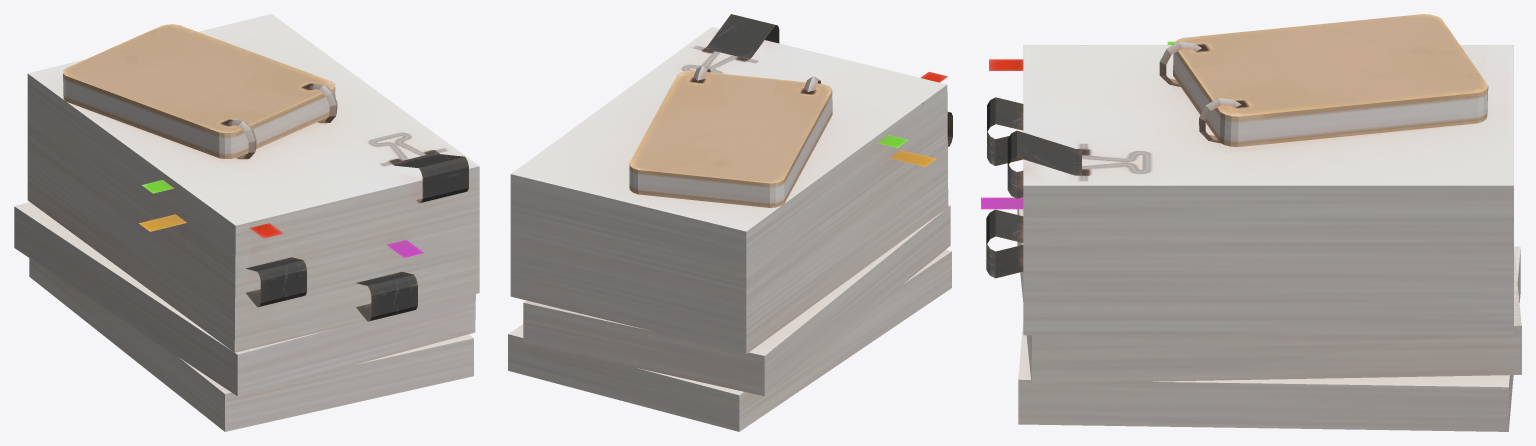
Rendered from P_OfficeSupplies_003_S1_M01.obj.
The picture shows the model from 3 angles, left to right: view 1: azimuth 30°, elevation 25°; view 2: azimuth 150°, elevation 25°; view 3: azimuth 270°, elevation 25°; orthographic projection. The views are drawn at different scales.
Size of the model in its own units: 0.4438 by 0.3632 by 0.6154.
1 material, 1 textured.
